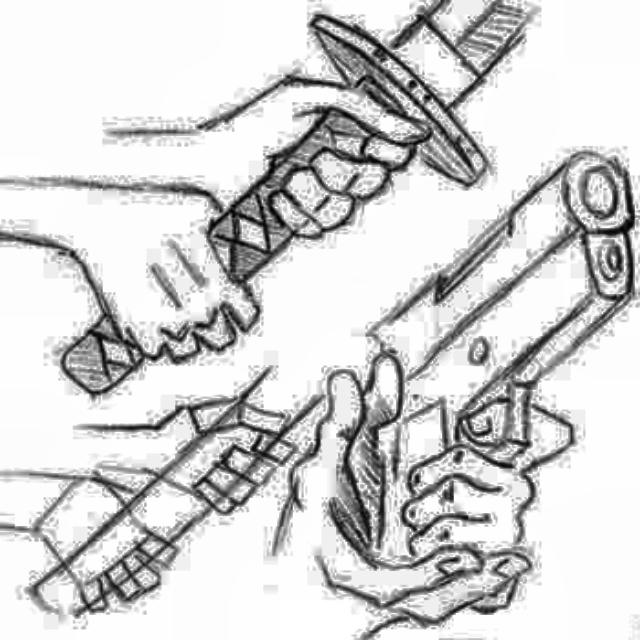pistol: (337, 145, 631, 578)
